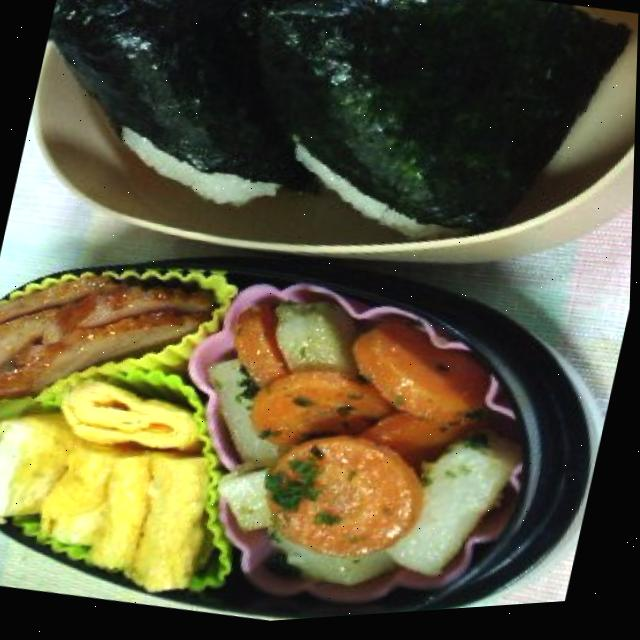米饭主食: (5, 0, 640, 343)
蔬菜料理: (140, 256, 561, 632)
鸡蛋料理: (0, 352, 248, 621)
